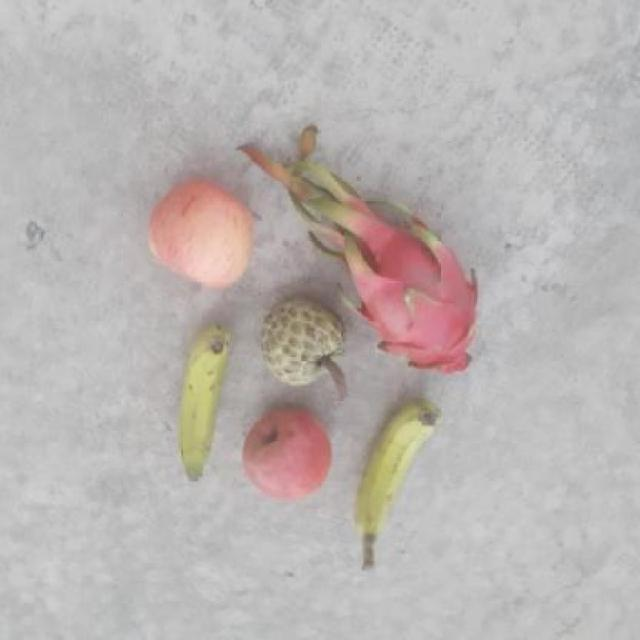apple: (142, 166, 258, 296), (235, 393, 332, 505)
banana: (162, 318, 233, 479), (361, 398, 439, 540)
dragon fruit: (347, 221, 485, 374)
sugar apple: (258, 304, 353, 384)
